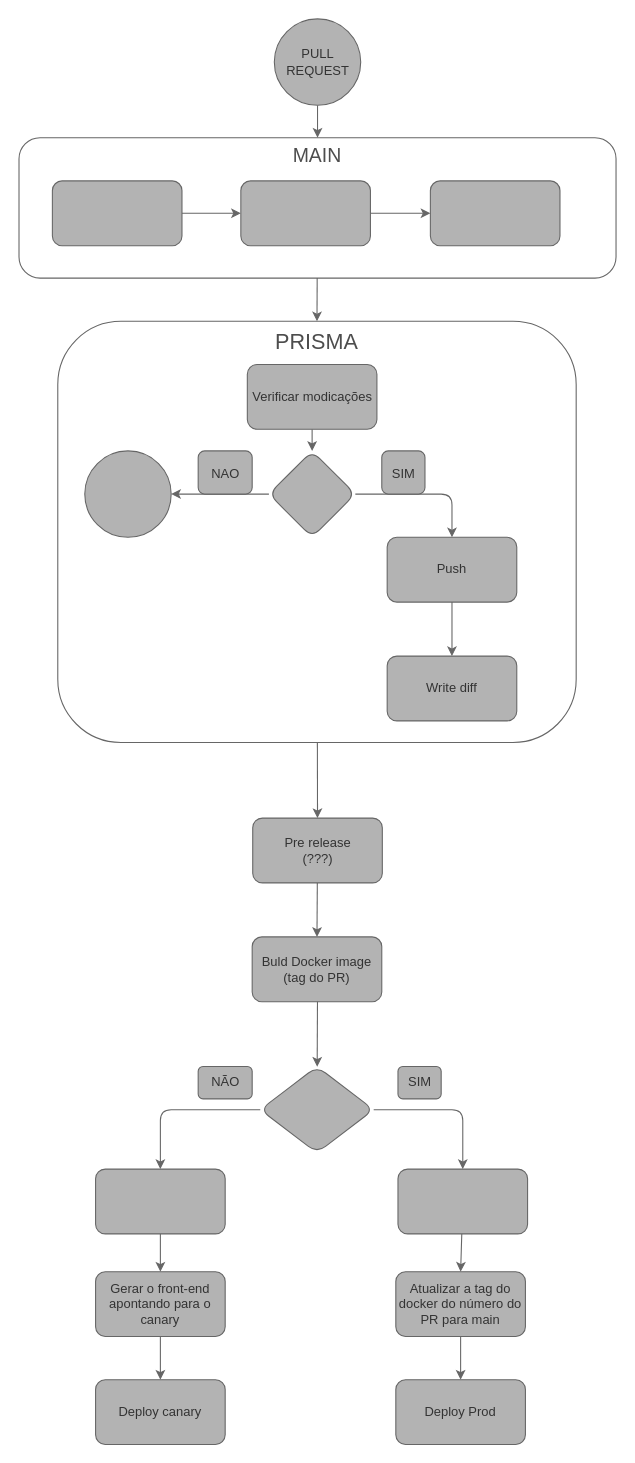
Image size: 635x1463. Some labels were removed from this diagram. Each missing label, with the centre of its shape:
"Atualizar tag do docker do número do PR para canary" goes at point 159,1201.
"Code Analysis" goes at point 305,213.
"FIM" goes at point 127,493.
"Install deps" goes at point 116,213.
"Merge main?" goes at point 316,1109.
"Release" goes at point 462,1201.
"Tem?" goes at point 311,493.
"Tests" goes at point 494,213.
